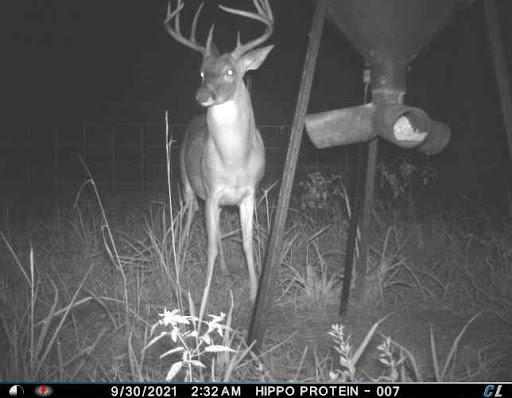Deer: (154, 0, 281, 322)
